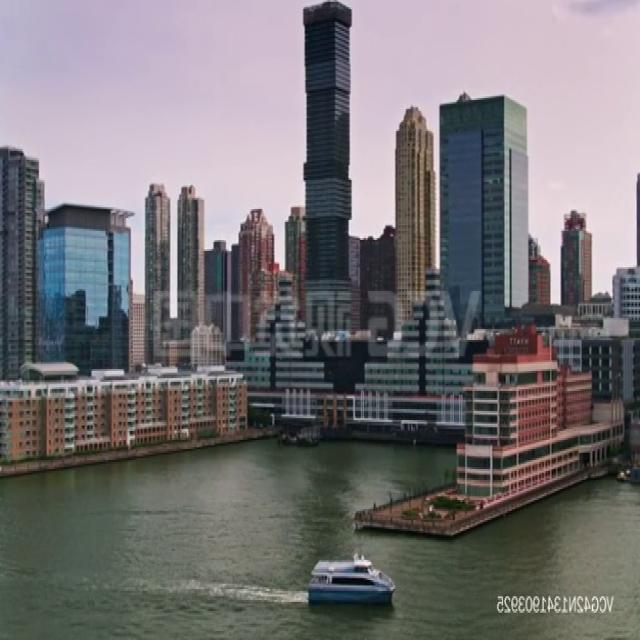houseboat: (305, 546, 400, 608)
